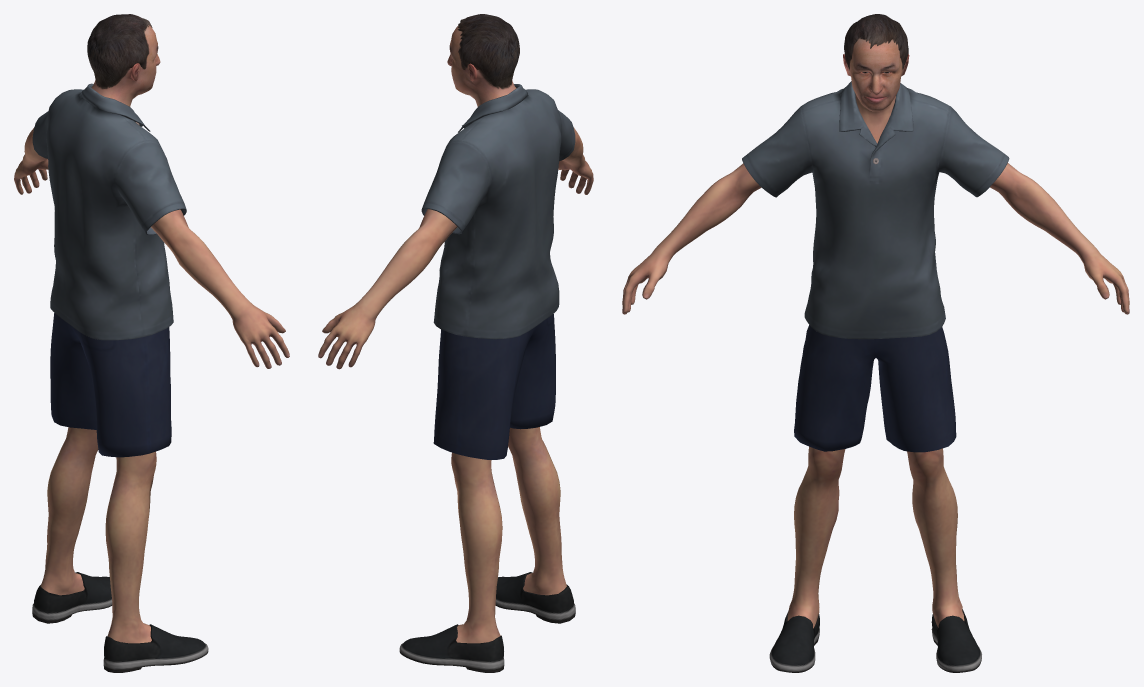
File: sm_oldman_web.fbx
3 views of the same model, side by side, from view 1: azimuth 30°, elevation 25°; view 2: azimuth 150°, elevation 25°; view 3: azimuth 270°, elevation 25° (orthographic). The views are drawn at different scales.
Parts seen in each view (by area): view 1: sm_oldman_web; view 2: sm_oldman_web; view 3: sm_oldman_web.
Boxes of the visible parts, x1,y1,x2,y2 form: sm_oldman_web: (14, 14, 289, 672); sm_oldman_web: (318, 14, 593, 672); sm_oldman_web: (622, 14, 1129, 672).
Size of the model in its own units: 0.3342 by 1.8 by 1.3.
Materials: 4 (4 with a texture image).
